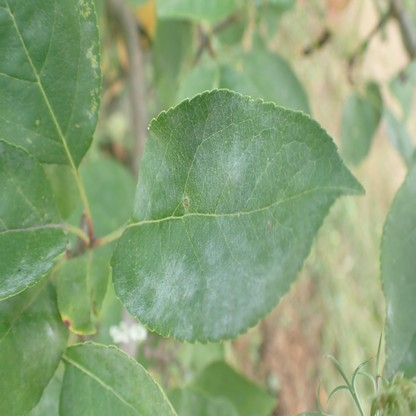powdery_mildew: (109, 86, 366, 344), (62, 342, 168, 416), (382, 166, 416, 381), (0, 243, 65, 295), (16, 315, 58, 365), (22, 12, 47, 45), (206, 397, 236, 416), (179, 390, 199, 416)
rust: (61, 316, 71, 326)
